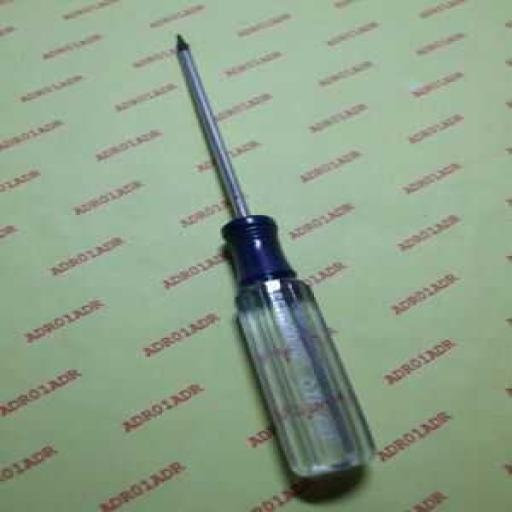screwdriver: (173, 32, 377, 482)
